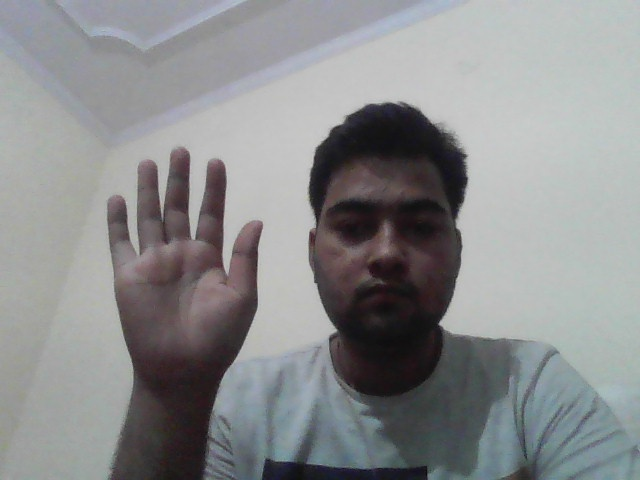Hello: (99, 142, 264, 392)
